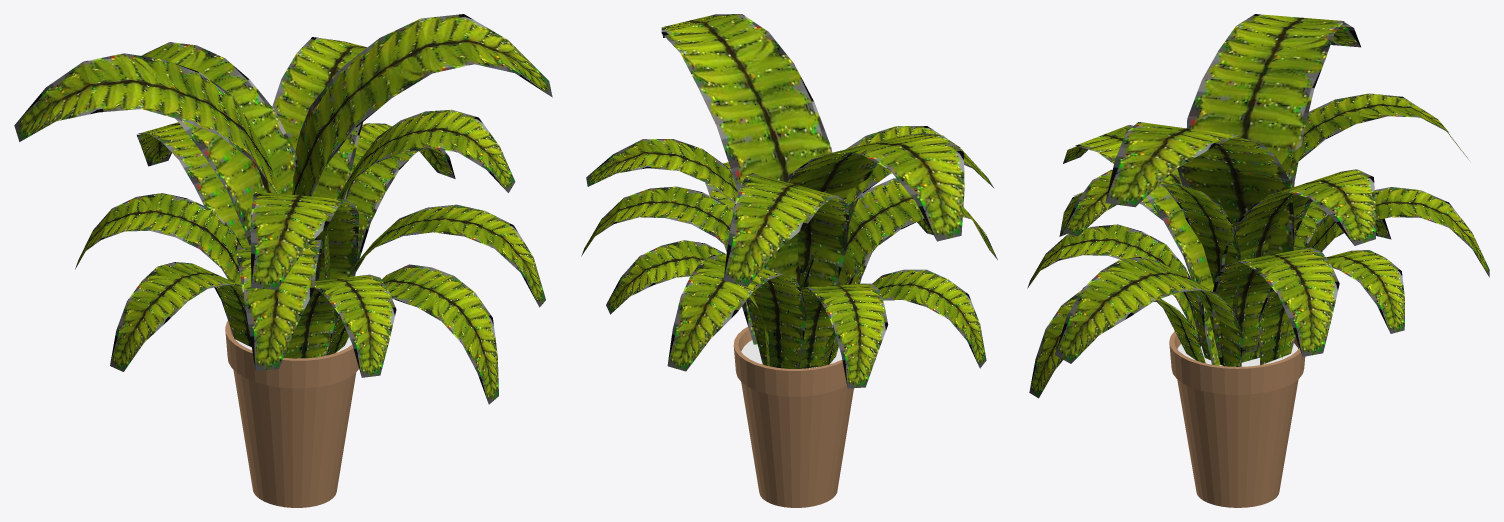
Rendered from sh-scopia-boston-fern.glb.
The picture shows the model from 3 angles, left to right: view 1: azimuth 30°, elevation 25°; view 2: azimuth 150°, elevation 25°; view 3: azimuth 270°, elevation 25°; orthographic projection. The views are drawn at different scales.
Parts seen in each view (by area): view 1: Leaves, Flowerpot; view 2: Leaves, Flowerpot; view 3: Leaves, Flowerpot.
Boxes of the visible parts, x1,y1,x2,y2 form: Leaves: [14, 14, 552, 404]; Flowerpot: [225, 321, 358, 507]; Leaves: [581, 14, 997, 388]; Flowerpot: [733, 326, 853, 507]; Leaves: [1027, 14, 1489, 398]; Flowerpot: [1169, 331, 1305, 507].
Bounding box in the file's own units: 1 × 1 × 1.
Materials: 3 (1 with a texture image).
